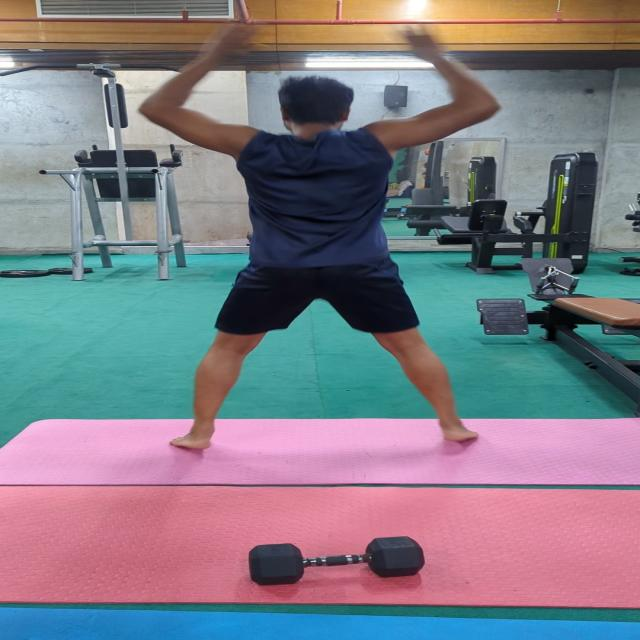Normal_JumpingJacks: (130, 14, 587, 479)
